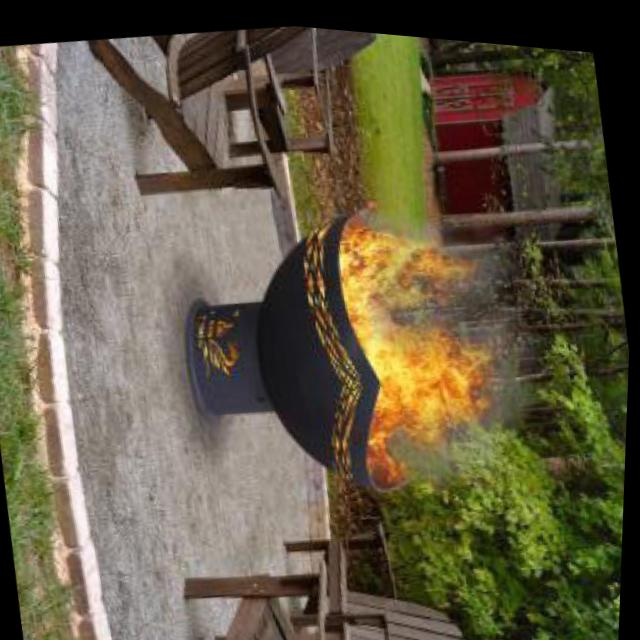Fire: (314, 202, 525, 458), (371, 403, 522, 495)
